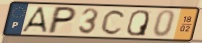0: (150, 8, 178, 39)
3: (77, 7, 100, 36)
A: (19, 5, 49, 34)
C: (100, 8, 128, 36)
P: (46, 5, 79, 35)
Q: (125, 9, 151, 37)
